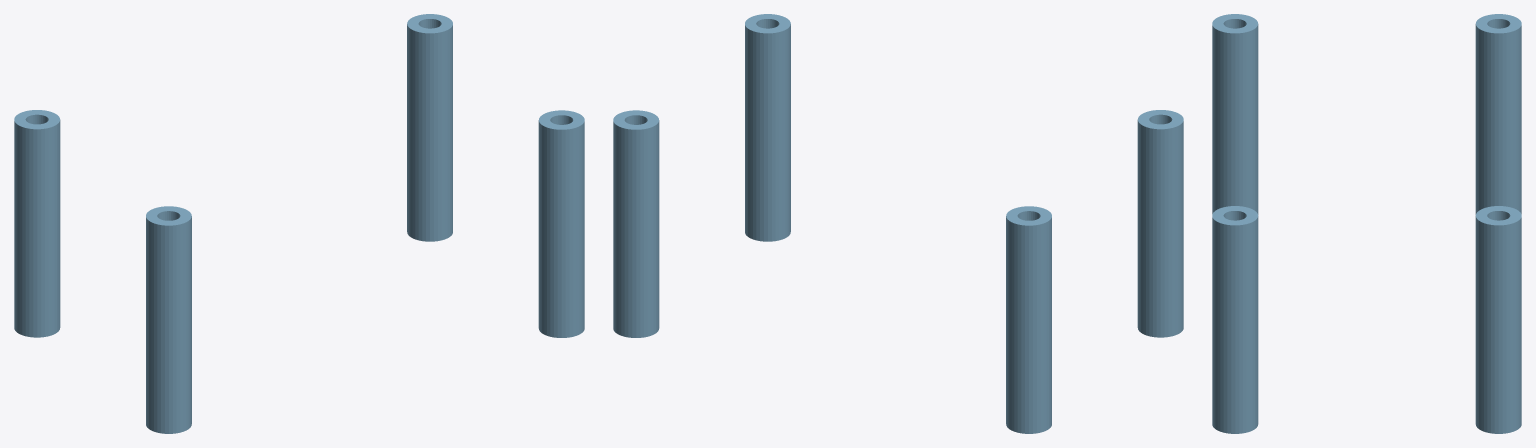
Rendered from standoffs-flow.glb.
3 renders of one model, left to right at view 1: azimuth 30°, elevation 25°; view 2: azimuth 150°, elevation 25°; view 3: azimuth 270°, elevation 25°, orthographic.
Parts seen in each view (by area): view 1: world; view 2: world; view 3: world.
Part boxes in pixels (left/top/right/bottom): world: left=14, top=14, right=584, bottom=433; world: left=613, top=14, right=1183, bottom=433; world: left=1212, top=14, right=1521, bottom=433.
Bounding box in the file's own units: 0.0435 × 0.02 × 0.0269.
